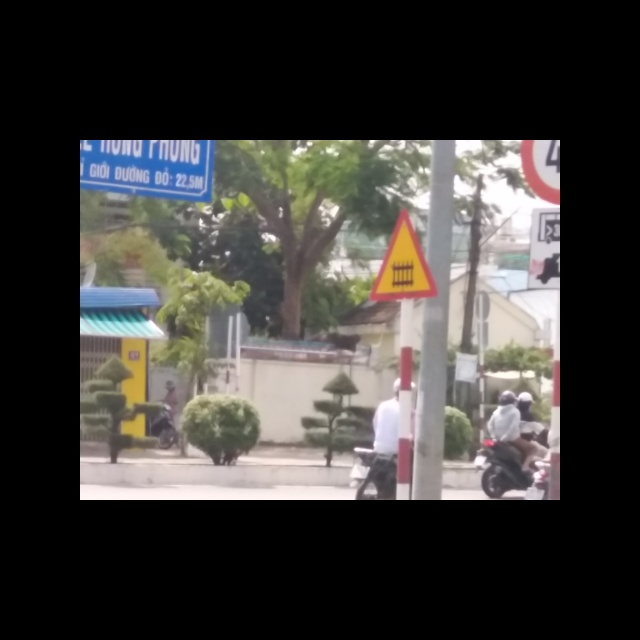Giao nhau với đường sắt có rào chắn: (366, 204, 440, 303)
